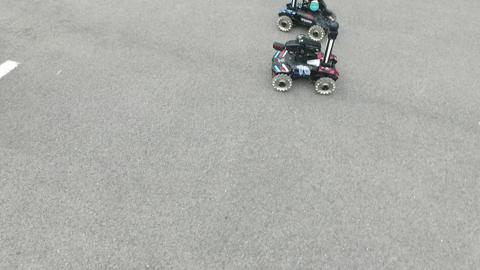chariot: (260, 21, 351, 102), (270, 1, 343, 39)
